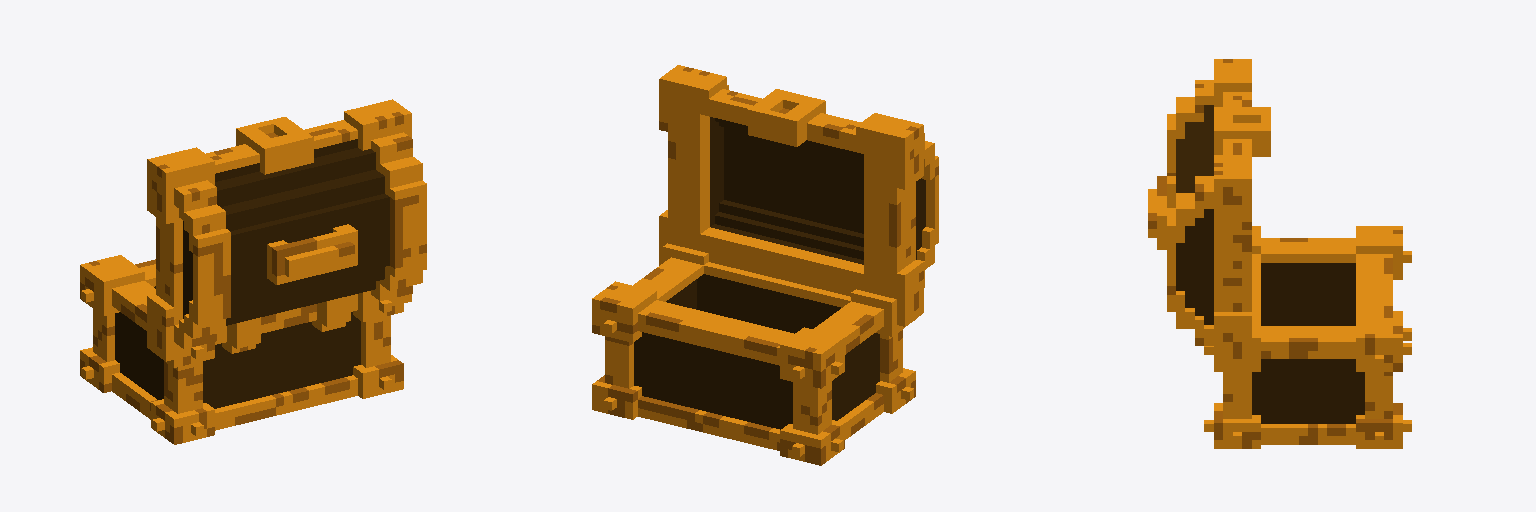
The picture shows the model from 3 angles: view 1: azimuth 30°, elevation 25°; view 2: azimuth 150°, elevation 25°; view 3: azimuth 270°, elevation 25°; orthographic projection.
Visible parts, largest first — view 1: object 1; view 2: object 1; view 3: object 1.
Boxes of the visible parts, <box> form: object 1: <box>80,99,426,444</box>; object 1: <box>592,65,938,465</box>; object 1: <box>1148,59,1411,448</box>.
Bounding box in the file's own units: 3 × 3.2 × 2.8.
Materials: 1 (1 with a texture image).